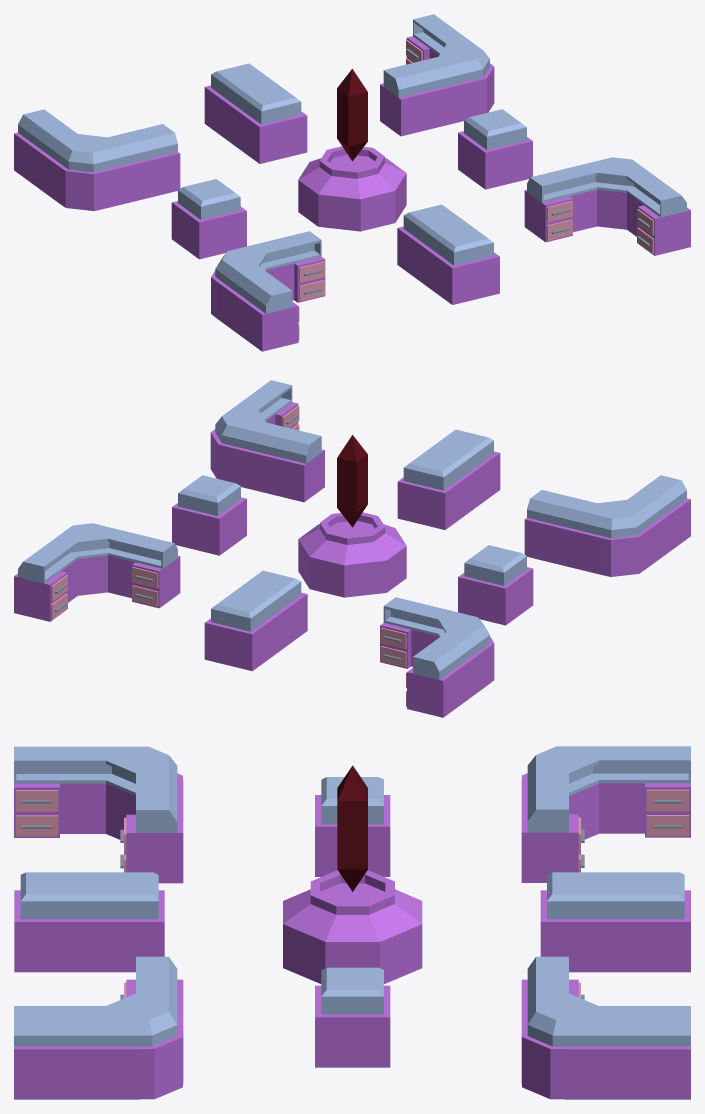
Rendered from Jewellery_Store_Platform.fbx.
The picture shows the model from 3 angles, top to bottom: view 1: azimuth 30°, elevation 25°; view 2: azimuth 150°, elevation 25°; view 3: azimuth 270°, elevation 25°; orthographic projection. The views are drawn at different scales.
Visible parts, largest first — view 1: Cube.125, Cube.129, Cube.104, Cube.127, Cube.033, Cube.126, Cube.003, Cube.102, Cube.133, Cube.040; view 2: Cube.104, Cube.127, Cube.125, Cube.129, Cube.033, Cube.126, Cube.003, Cube.102, Cube.133, Cube.040; view 3: Cube.127, Cube.129, Cube.104, Cube.125, Cube.003, Cube.126, Cube.033, Cube.133, Cube.102, Cube.040.
Boxes of the visible parts, x1,y1,x2,y2 form: Cube.125: [14, 109, 180, 210]; Cube.129: [524, 157, 690, 255]; Cube.104: [211, 231, 325, 351]; Cube.127: [380, 14, 494, 136]; Cube.033: [298, 146, 406, 231]; Cube.126: [204, 63, 307, 163]; Cube.003: [397, 204, 499, 304]; Cube.102: [171, 179, 246, 259]; Cube.133: [458, 109, 532, 189]; Cube.040: [337, 69, 367, 161]; Cube.104: [524, 475, 690, 576]; Cube.127: [14, 523, 180, 621]; Cube.125: [380, 597, 494, 717]; Cube.129: [210, 380, 324, 502]; Cube.033: [298, 512, 406, 597]; Cube.126: [204, 570, 307, 671]; Cube.003: [397, 429, 500, 529]; Cube.102: [458, 545, 533, 625]; Cube.133: [172, 475, 246, 555]; Cube.040: [337, 435, 367, 527]; Cube.127: [521, 956, 690, 1099]; Cube.129: [14, 956, 183, 1099]; Cube.104: [14, 746, 183, 883]; Cube.125: [521, 746, 690, 882]; Cube.003: [14, 872, 164, 972]; Cube.126: [540, 872, 690, 972]; Cube.033: [283, 870, 422, 983]; Cube.133: [315, 967, 390, 1067]; Cube.102: [315, 777, 390, 876]; Cube.040: [337, 765, 367, 891].
Size of the model in its own units: 900 by 281 by 901.
